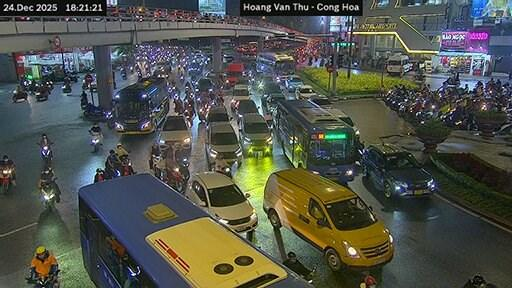motorbike: (83, 103, 112, 127), (25, 270, 57, 287), (41, 178, 56, 211), (166, 166, 185, 192), (38, 143, 51, 165), (0, 167, 10, 193), (303, 265, 316, 283), (89, 130, 99, 152), (121, 157, 133, 175), (105, 165, 120, 179), (214, 163, 230, 176), (12, 90, 26, 100), (42, 79, 53, 90), (80, 94, 88, 108), (64, 72, 76, 81), (35, 91, 48, 99), (412, 73, 425, 81), (61, 82, 70, 91), (121, 71, 125, 79)
